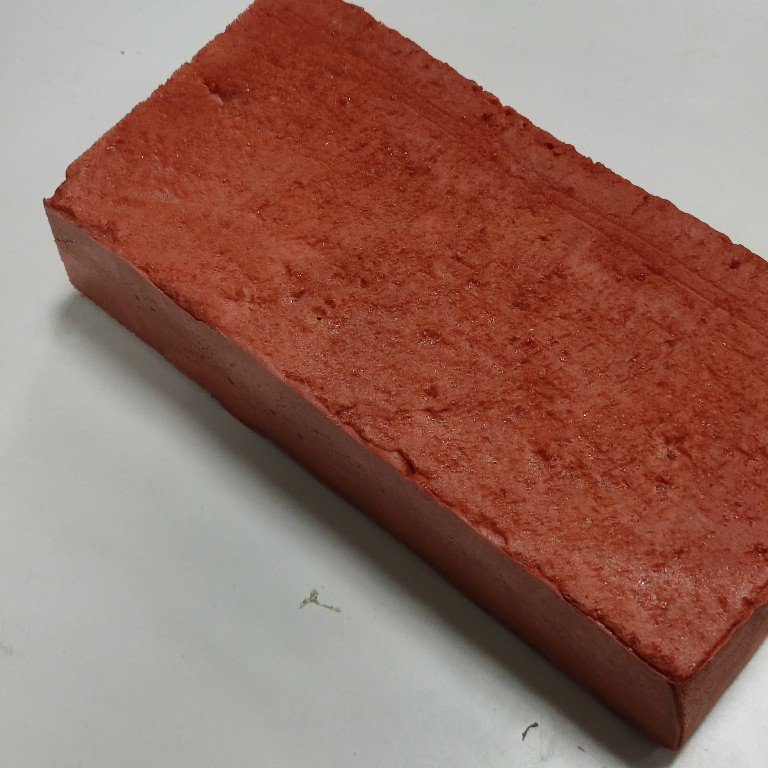brick: (37, 1, 768, 752)
